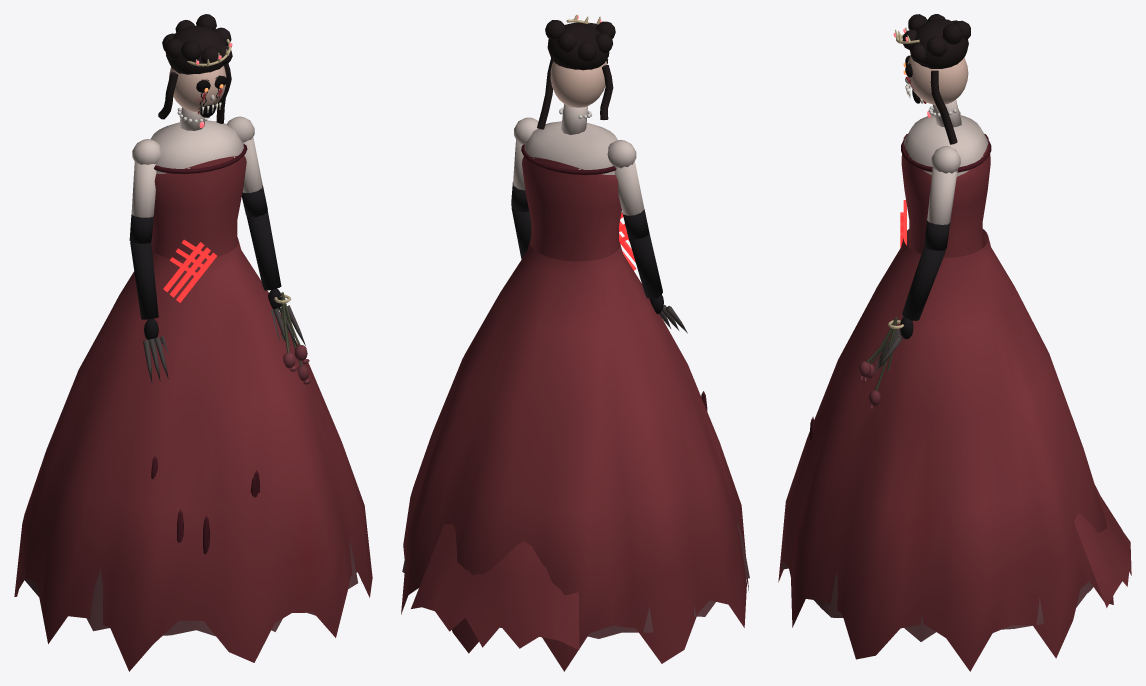
The model's file is fallen_diva.glb.
3 views of the same model, side by side, from view 1: azimuth 30°, elevation 25°; view 2: azimuth 150°, elevation 25°; view 3: azimuth 270°, elevation 25° (orthographic).
Parts seen in each view (by area): view 1: Diva_Root_RubySilk, Head_DivaHair, Chest, ArmA_OperaGloveBlack, ArmB_OperaGloveBlack, ArmA_DivaSkin, Petticoat, Face, Diva_Root_HWound, Diva_Root_RubyShadow, ArmB_DivaSkin, ArmA_HClaw (+1 smaller); view 2: Diva_Root_RubySilk, Train, Head_DivaHair, Chest, ArmA_OperaGloveBlack, Face, ArmA_DivaSkin, ArmB_OperaGloveBlack, Petticoat, ArmB_DivaSkin, Head_DivaSkin, Diva_Root_RubyShadow; view 3: Diva_Root_RubySilk, Head_DivaHair, Train, Chest, ArmB_OperaGloveBlack, ArmB_DivaSkin, Face, Petticoat, Diva_Root_RubyShadow.
Part boxes in pixels (<box>): Diva_Root_RubySilk: <box>14,155,372,671</box>; Head_DivaHair: <box>158,14,232,123</box>; Chest: <box>150,120,243,173</box>; ArmA_OperaGloveBlack: <box>129,214,158,339</box>; ArmB_OperaGloveBlack: <box>241,185,281,309</box>; ArmA_DivaSkin: <box>131,139,160,217</box>; Petticoat: <box>23,540,358,636</box>; Face: <box>169,65,226,112</box>; Diva_Root_HWound: <box>163,239,216,302</box>; Diva_Root_RubyShadow: <box>151,144,361,580</box>; ArmB_DivaSkin: <box>226,116,262,192</box>; ArmA_HClaw: <box>143,336,168,384</box>; Diva_Root_RubySilk: <box>401,156,748,671</box>; Train: <box>411,524,579,649</box>; Head_DivaHair: <box>537,20,615,129</box>; Chest: <box>524,121,617,174</box>; ArmA_OperaGloveBlack: <box>622,209,663,313</box>; Face: <box>550,61,607,107</box>; ArmA_DivaSkin: <box>607,140,644,215</box>; ArmB_OperaGloveBlack: <box>511,182,531,259</box>; Petticoat: <box>402,519,749,638</box>; ArmB_DivaSkin: <box>513,117,538,190</box>; Head_DivaSkin: <box>561,104,587,134</box>; Diva_Root_RubyShadow: <box>521,144,707,410</box>; Diva_Root_RubySilk: <box>778,134,1113,671</box>; Head_DivaHair: <box>902,14,970,144</box>; Train: <box>1074,485,1131,607</box>; Chest: <box>904,115,988,176</box>; ArmB_OperaGloveBlack: <box>900,220,950,339</box>; ArmB_DivaSkin: <box>927,146,960,224</box>; Face: <box>907,55,968,104</box>; Petticoat: <box>781,562,1093,641</box>; Diva_Root_RubyShadow: <box>789,140,991,576</box>.
Bounding box in the file's own units: 1.03 × 1.81 × 0.995.
18 materials, 1 textured.
